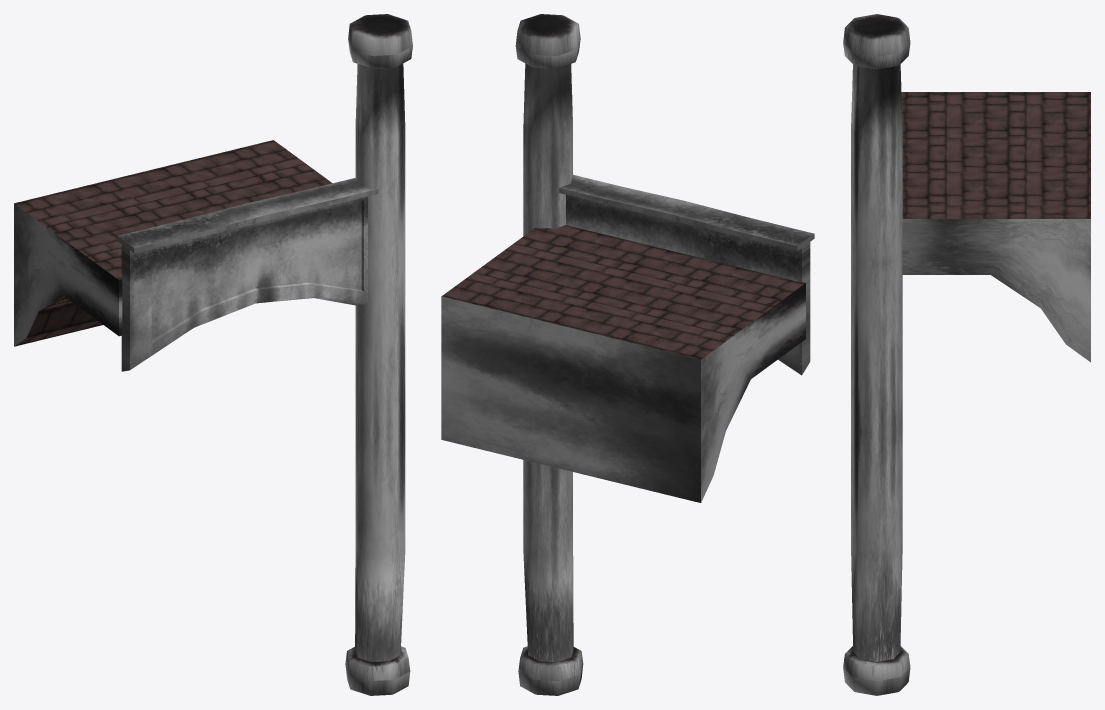
Rendered from MOD_L1_Room3_Stairs_LeftSide.fbx.
3 views of the same model, side by side, from view 1: azimuth 30°, elevation 25°; view 2: azimuth 150°, elevation 25°; view 3: azimuth 270°, elevation 25° (orthographic).
Parts seen in each view (by area): view 1: Cube.005; view 2: Cube.005; view 3: Cube.005.
Part boxes in pixels (<box>): Cube.005: <box>14,14,412,695</box>; Cube.005: <box>441,14,814,695</box>; Cube.005: <box>843,14,1090,695</box>.
Bounding box in the file's own units: 64.53 × 141 × 47.85.
